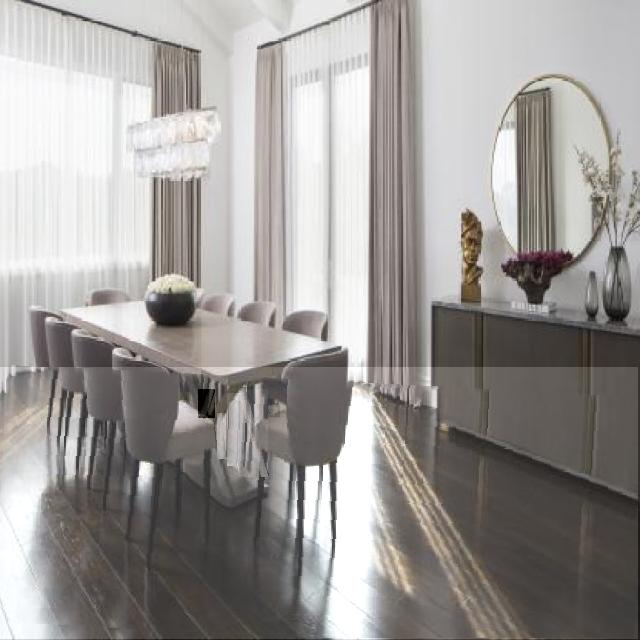floor: (0, 368, 638, 639), (239, 389, 268, 477), (227, 394, 239, 466), (199, 389, 215, 418), (217, 413, 226, 459), (268, 407, 280, 417)
